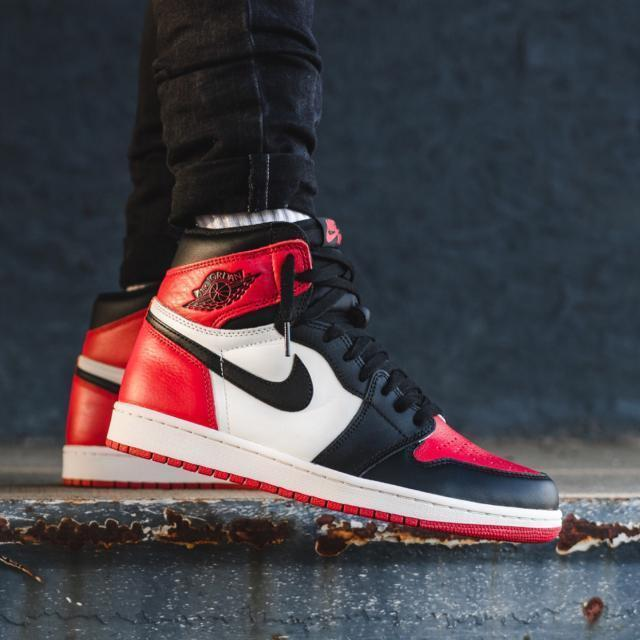nike original jordan 1: (108, 209, 569, 557)
